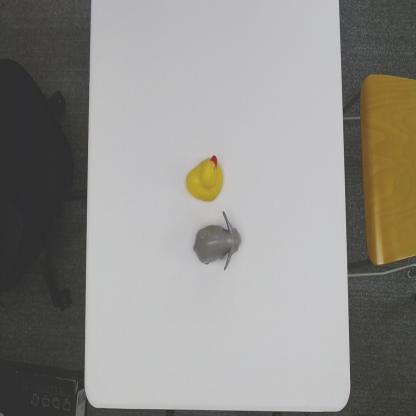Duck: (184, 152, 225, 204)
Elephant: (192, 210, 242, 272)
